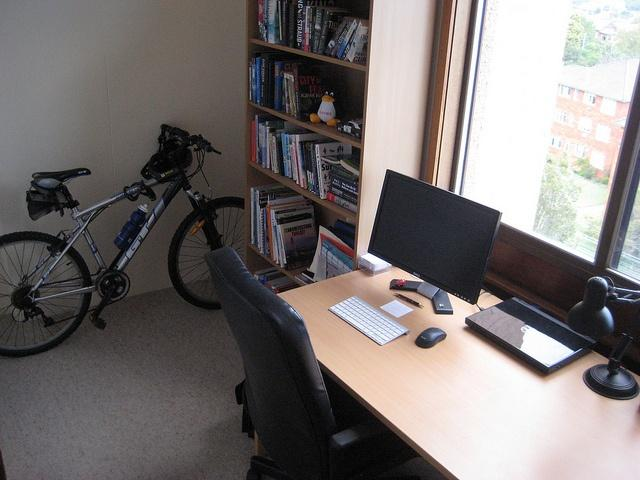AIO PC-Monitor-TV: (367, 168, 503, 313)
Kursi: (205, 246, 393, 479)
Meja: (273, 259, 639, 479)
Rak: (245, 0, 371, 294)
